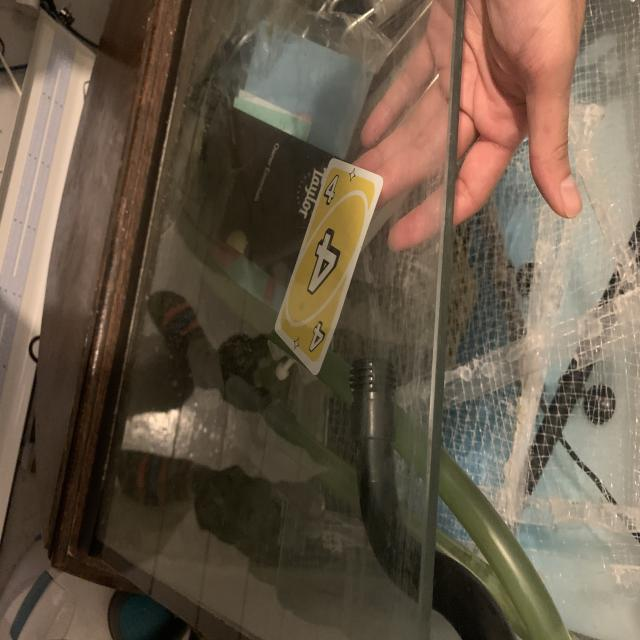lyellow-4: (319, 172, 341, 212)
